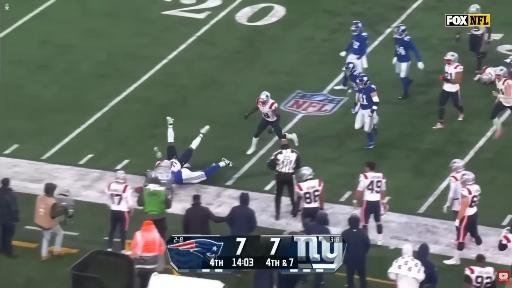Helmet: (298, 167, 314, 181), (461, 171, 475, 186), (450, 159, 464, 172), (444, 52, 458, 65), (356, 74, 370, 87), (495, 67, 508, 81), (258, 91, 270, 105), (394, 24, 406, 37), (351, 21, 362, 34), (345, 62, 355, 75), (480, 74, 494, 83), (115, 171, 126, 182), (468, 5, 481, 13), (159, 160, 170, 167)
Jersey: (358, 172, 386, 200), (106, 182, 133, 211), (296, 180, 323, 207), (394, 36, 421, 62), (464, 267, 496, 287), (462, 184, 481, 215), (449, 171, 463, 210), (346, 32, 367, 56), (257, 99, 277, 121), (358, 86, 376, 110), (496, 78, 511, 106), (445, 64, 463, 79), (349, 70, 361, 90), (482, 67, 495, 82), (471, 27, 487, 39), (500, 229, 511, 245), (173, 169, 183, 184), (502, 58, 511, 74), (170, 159, 181, 171)
Player: (147, 117, 232, 183), (444, 171, 482, 264), (245, 92, 298, 154), (353, 162, 387, 245), (392, 24, 424, 99), (433, 52, 463, 129), (106, 171, 134, 253), (167, 117, 209, 170), (152, 159, 232, 184), (355, 74, 379, 149), (296, 167, 324, 227), (340, 21, 368, 72), (491, 67, 511, 138), (444, 159, 464, 218), (464, 254, 497, 287), (469, 27, 491, 72), (345, 62, 361, 113), (474, 67, 496, 83), (498, 228, 511, 251), (499, 228, 511, 251), (502, 56, 511, 71)
